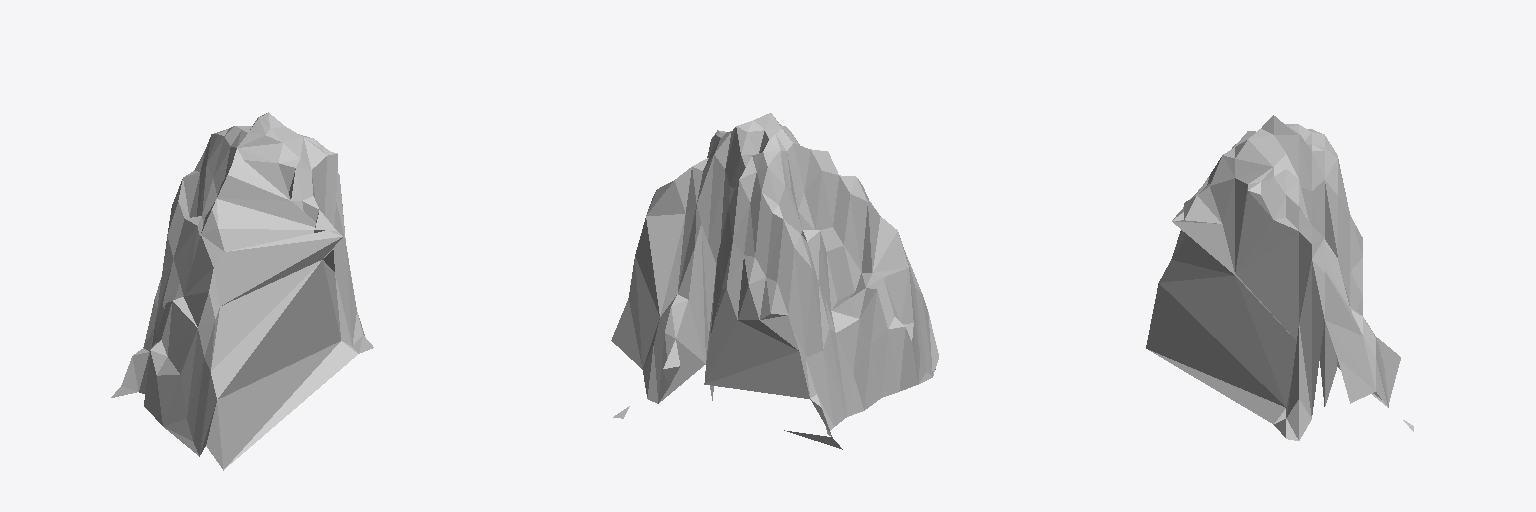
File: tree_44.obj
3 views of the same model, side by side, from view 1: azimuth 30°, elevation 25°; view 2: azimuth 150°, elevation 25°; view 3: azimuth 270°, elevation 25° (orthographic).
Visible parts, largest first — view 1: tree_44.001; view 2: tree_44.001; view 3: tree_44.001.
Boxes of the visible parts, box(x1,y1,x2,y2) form: tree_44.001: box(111, 112, 373, 470); tree_44.001: box(611, 113, 938, 449); tree_44.001: box(1146, 115, 1413, 440).
Bounding box in the file's own units: 22 × 24.39 × 21.